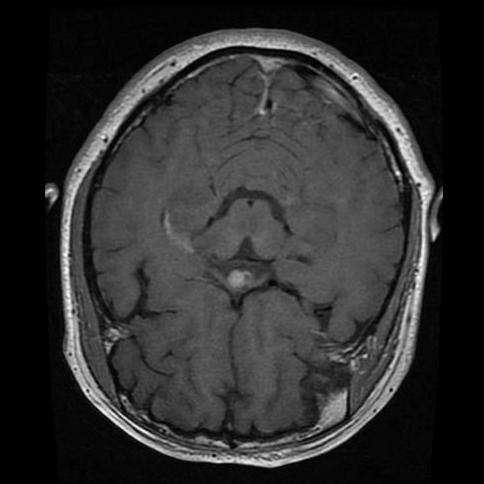Tumour-Pituitary: (229, 267, 260, 291)
